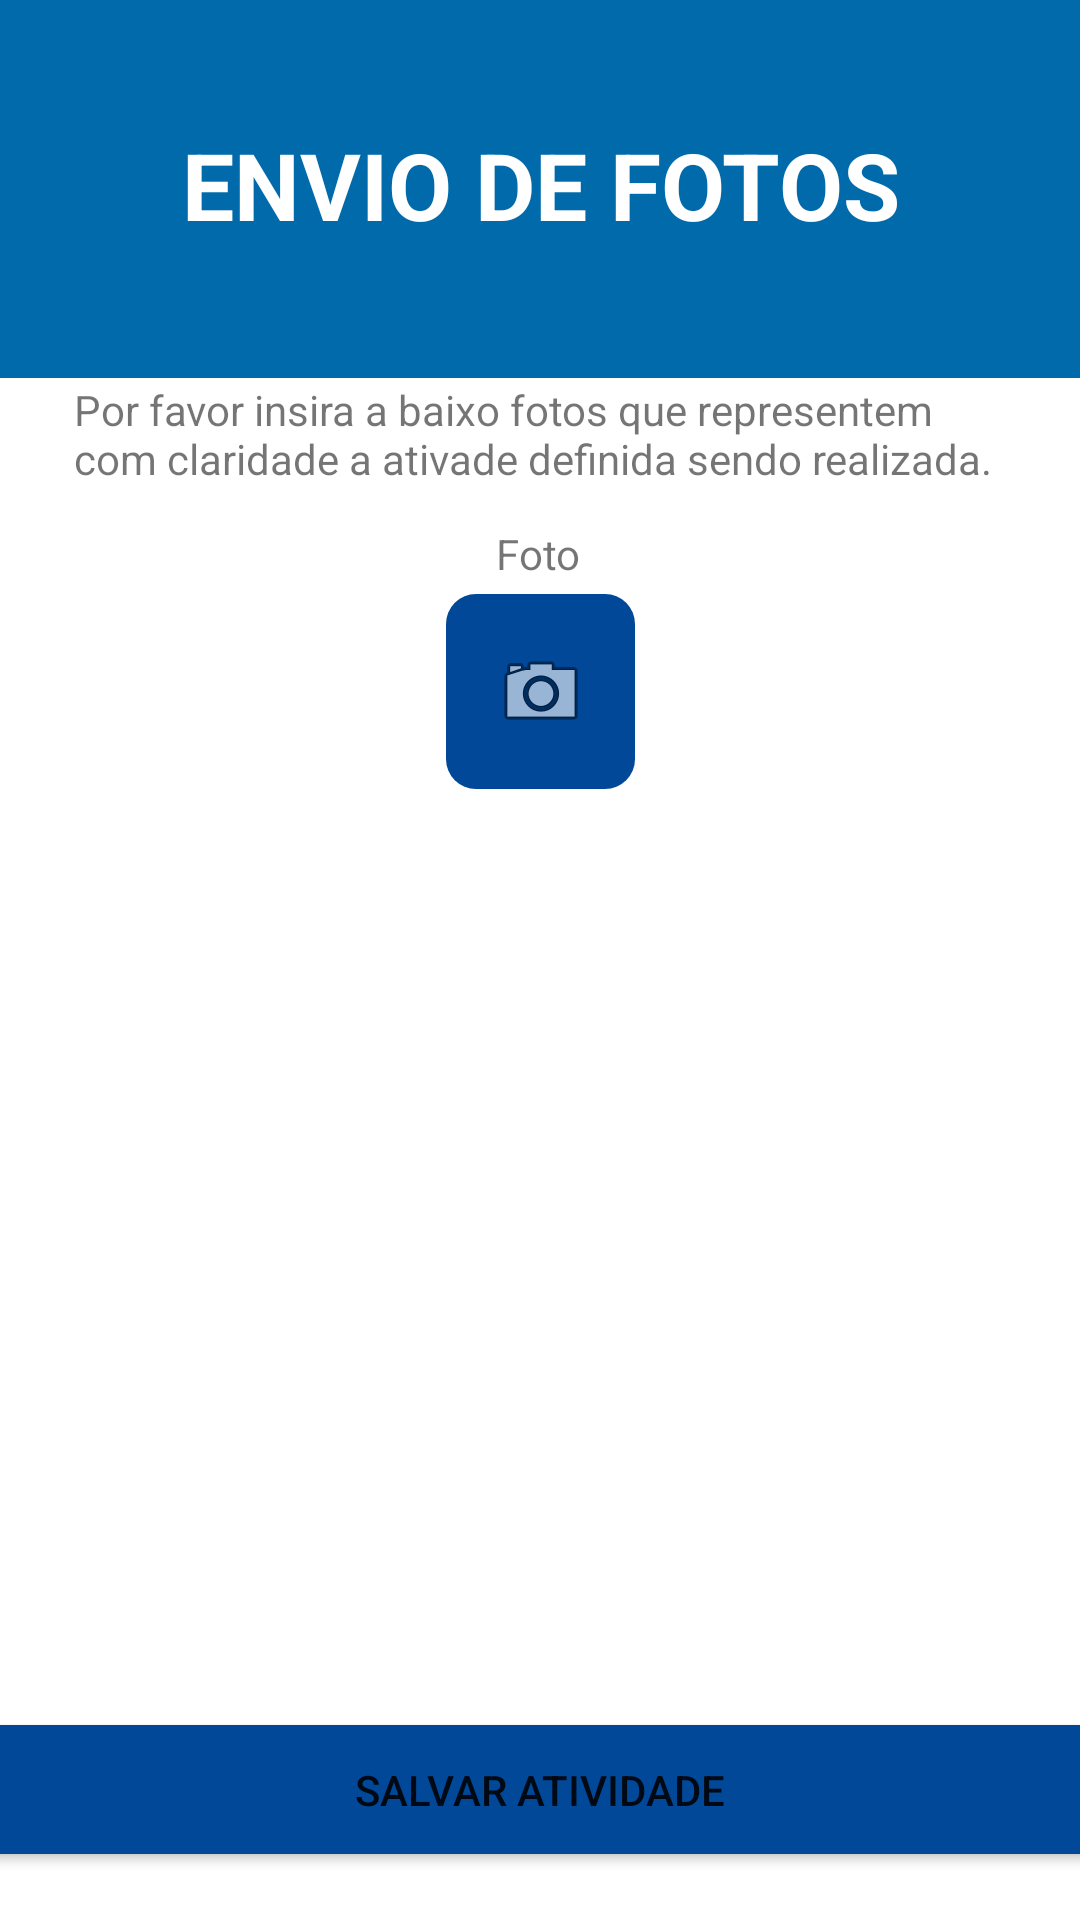

Screen size 1080px x 1920px. Icon name, then its box in pixels as (x1, y1, x2, y2):
camera: (446, 594, 635, 789)
